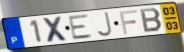1: (29, 19, 44, 44)
B: (139, 7, 164, 34)
E: (67, 13, 95, 41)
F: (119, 8, 139, 35)
J: (96, 11, 114, 38)
X: (41, 15, 71, 44)
